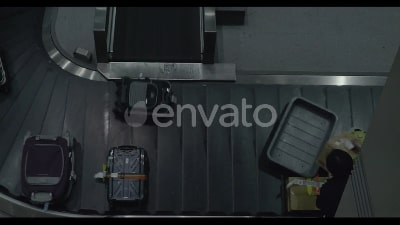baggage: (19, 130, 80, 211), (100, 146, 151, 209), (110, 75, 176, 121)
